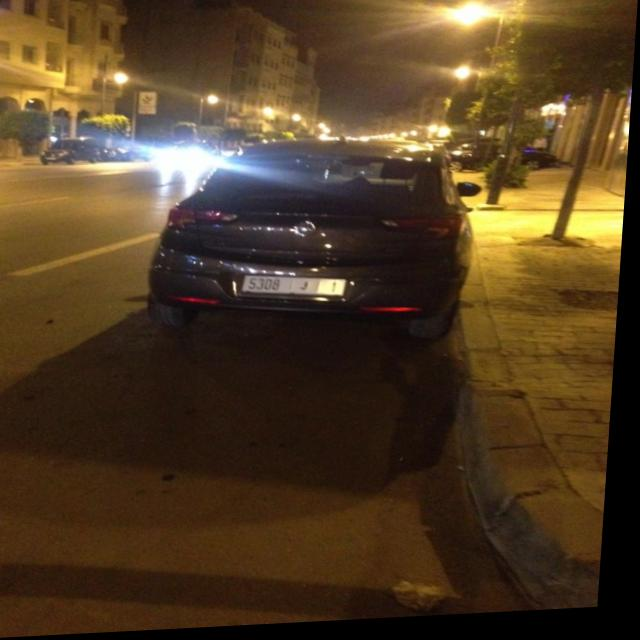License-Plate: (247, 278, 350, 300)
